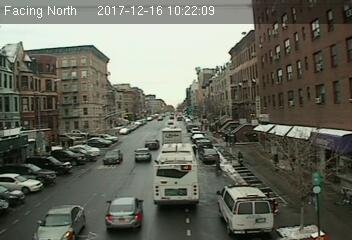bus: (152, 142, 202, 210)
car: (33, 203, 86, 240), (105, 197, 145, 230), (101, 148, 121, 165), (201, 148, 220, 163), (134, 148, 151, 161), (144, 138, 157, 148)
pedestrian: (237, 150, 246, 170)
police: (216, 181, 275, 235)
